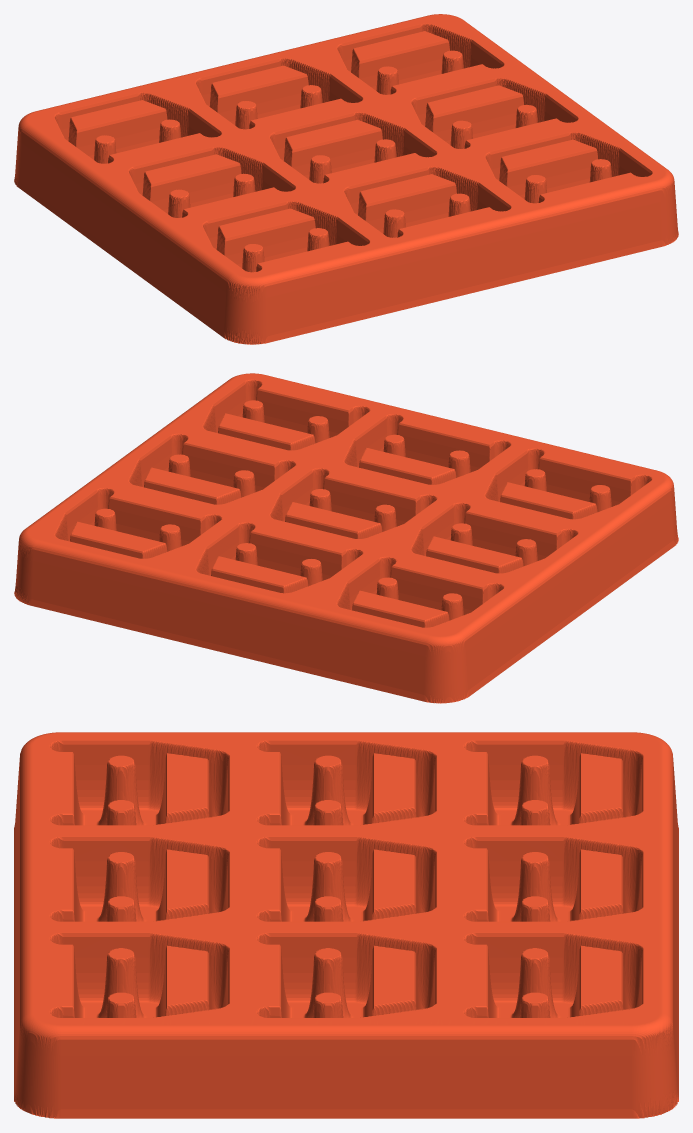
File: mold.glb
The picture shows the model from 3 angles, top to bottom: view 1: azimuth 30°, elevation 25°; view 2: azimuth 150°, elevation 25°; view 3: azimuth 270°, elevation 25°; orthographic projection. The views are drawn at different scales.
Visible parts, largest first — view 1: geometry_0; view 2: geometry_0; view 3: geometry_0.
Part boxes in pixels (<box>): geometry_0: <box>14,14,678,344</box>; geometry_0: <box>14,373,678,703</box>; geometry_0: <box>14,732,678,1118</box>.
Size of the model in its own units: 0.1402 by 0.0182 by 0.1281.
